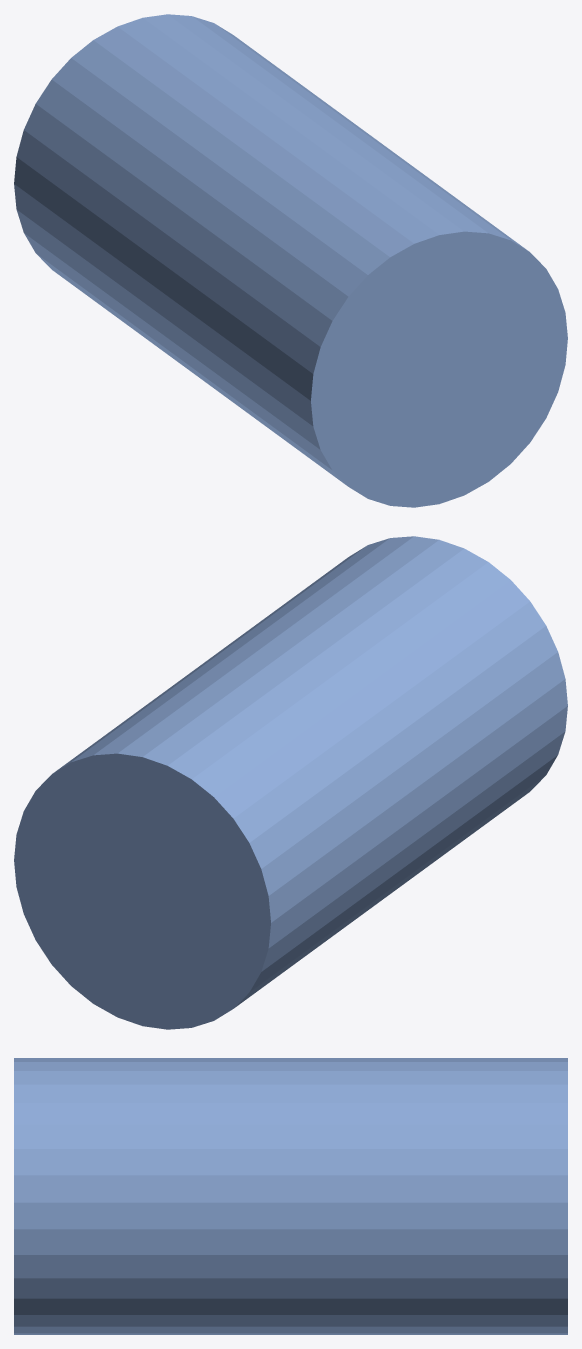
3 renders of one model, top to bottom at view 1: azimuth 30°, elevation 25°; view 2: azimuth 150°, elevation 25°; view 3: azimuth 270°, elevation 25°, orthographic. The views are drawn at different scales.
Parts seen in each view (by area): view 1: world; view 2: world; view 3: world.
Part boxes in pixels (x1=…): world: x1=14, y1=14, x2=567, y2=507; world: x1=14, y1=536, x2=567, y2=1029; world: x1=14, y1=1058, x2=567, y2=1334.
Size of the model in its own units: 1 by 1 by 2.
